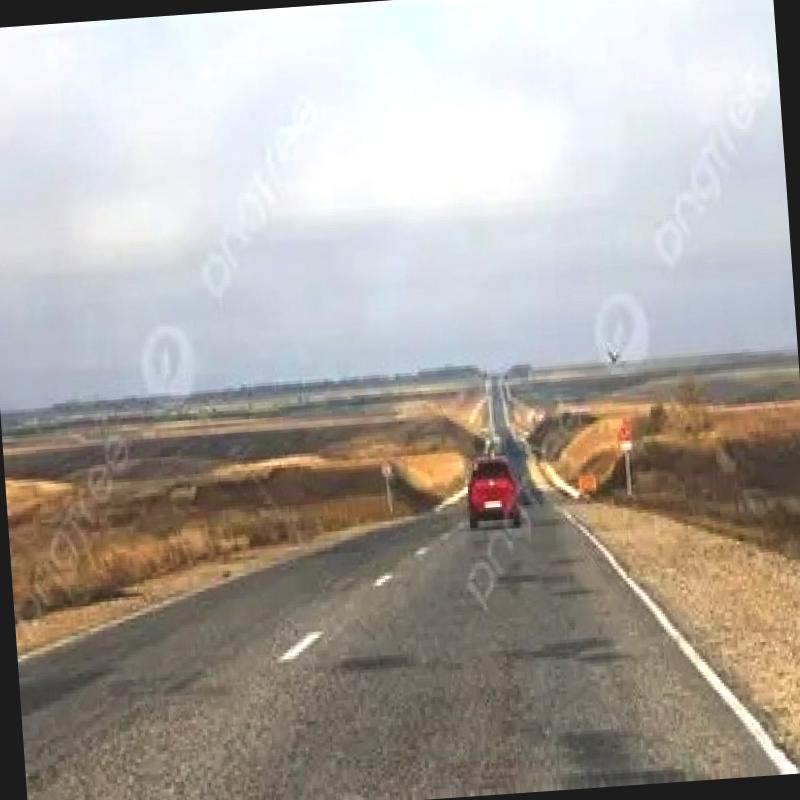license plate on a car: (484, 497, 503, 508)
